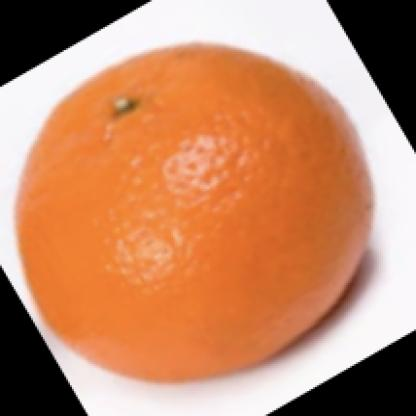fresh: (14, 43, 372, 385)
